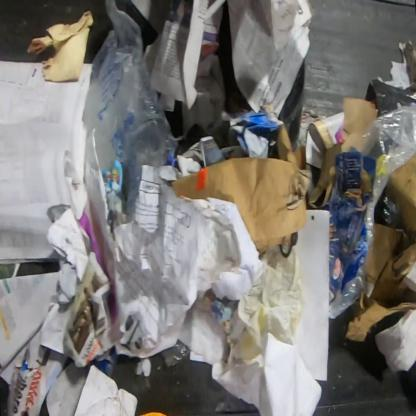cardboard: (168, 125, 306, 255), (323, 146, 385, 303), (344, 224, 415, 343), (308, 96, 379, 210), (219, 103, 284, 158), (389, 151, 415, 237), (92, 344, 118, 377), (292, 145, 306, 170)
soft_plastic: (82, 0, 171, 221), (330, 105, 415, 318), (372, 80, 415, 119)
